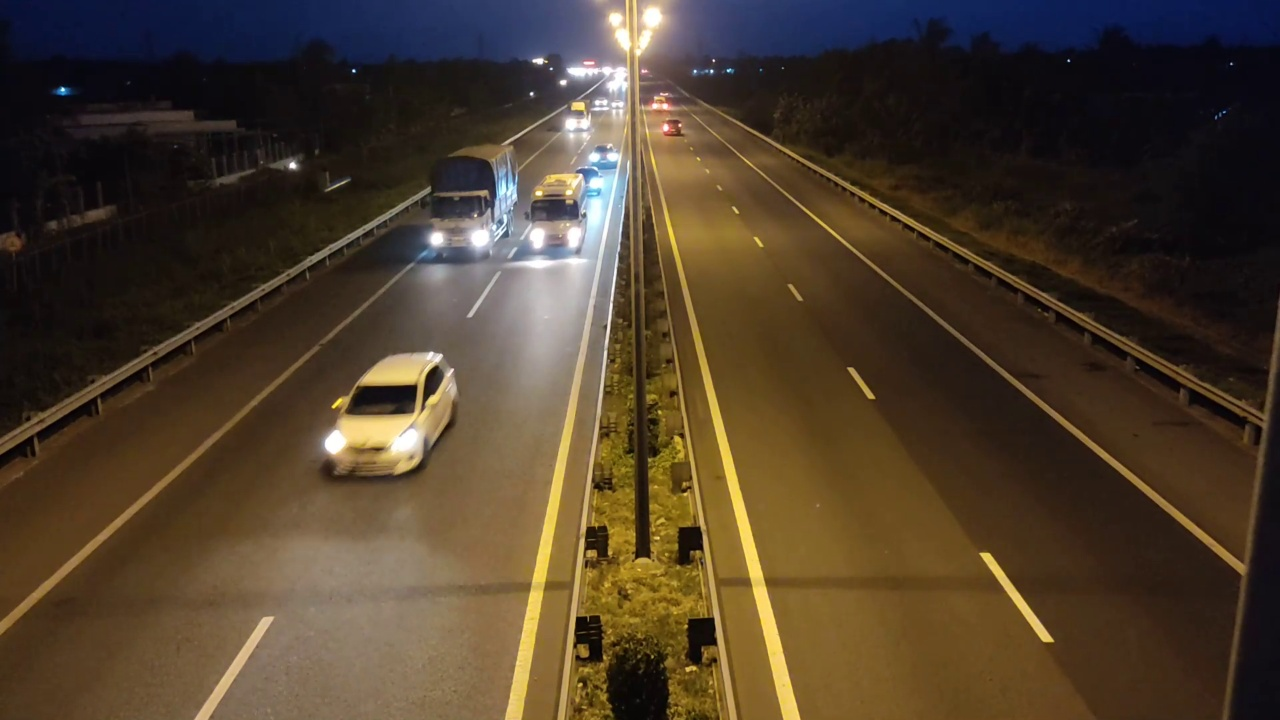bus: (522, 165, 589, 254)
car: (321, 351, 459, 479)
truck: (427, 142, 520, 262)
